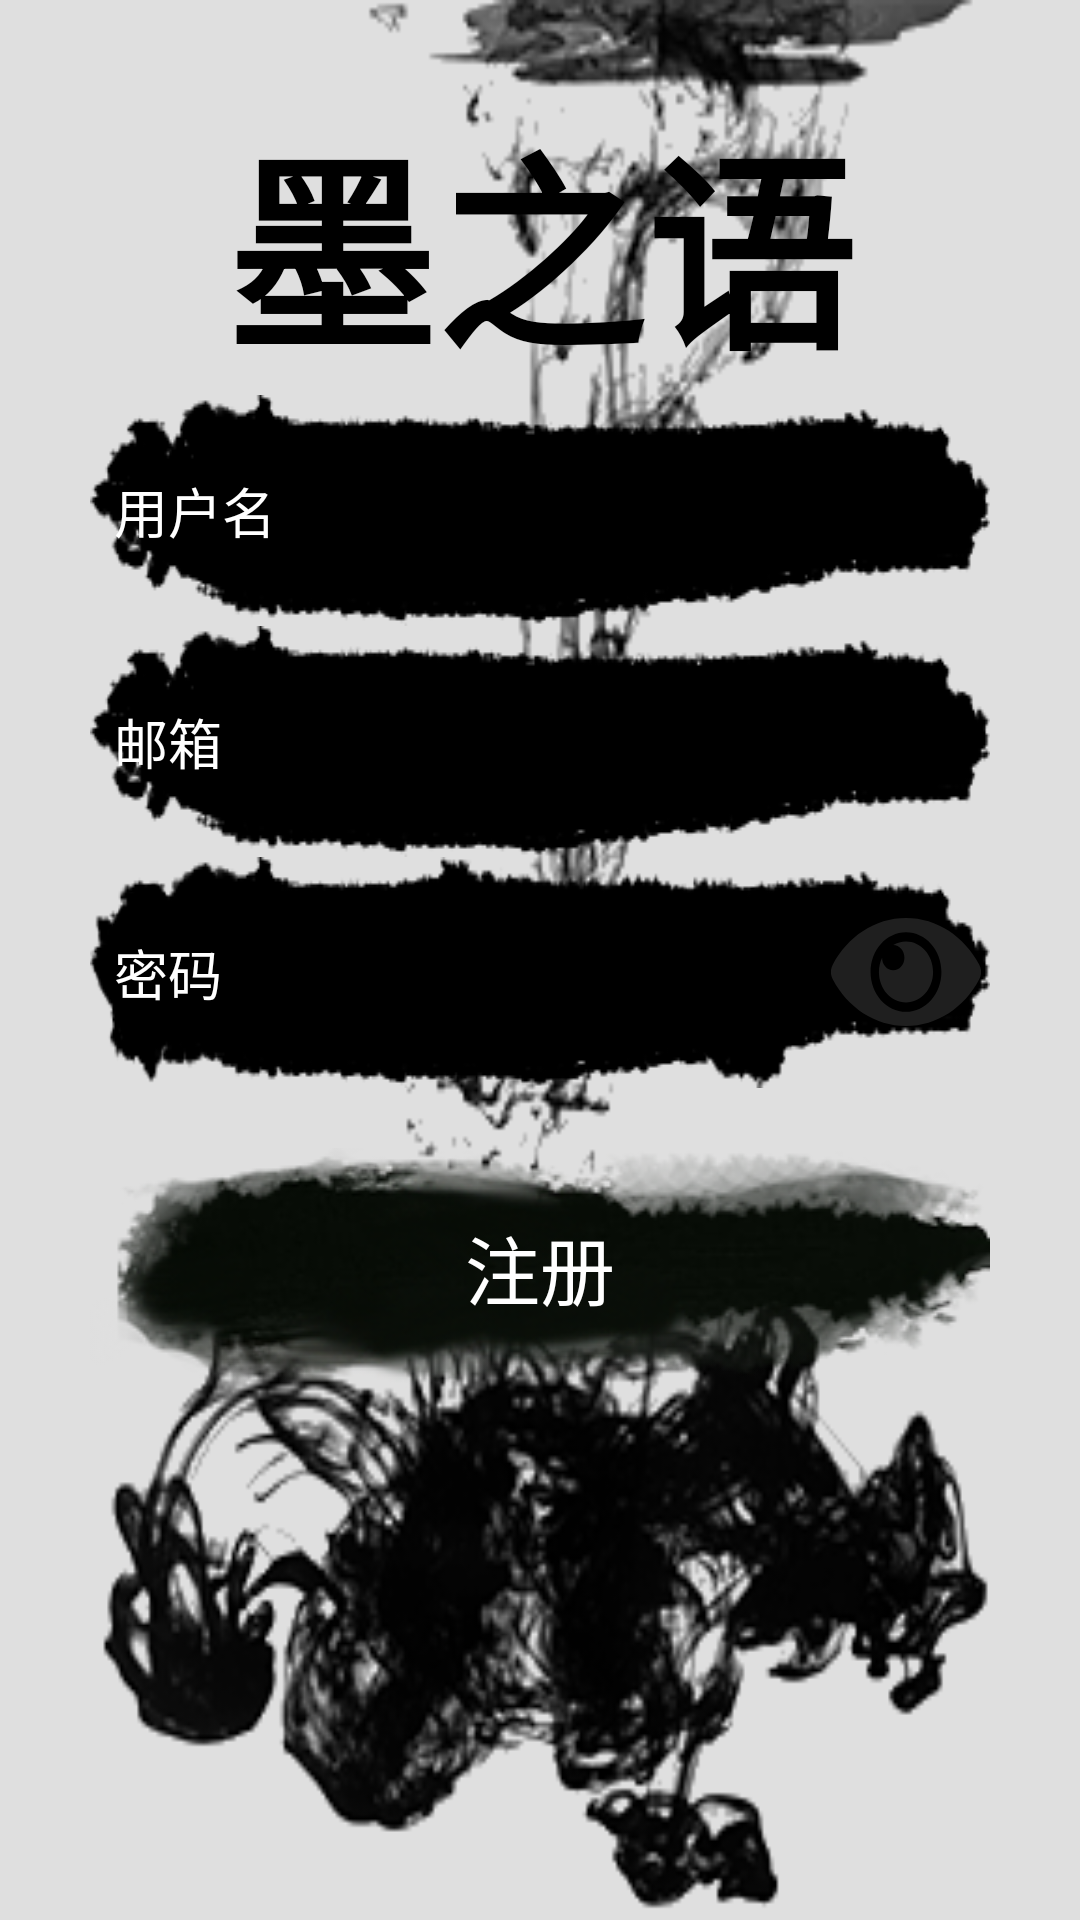

Icons on this 1080 × 1920 Android screen, each with the point to tap as (x,y):
eye: (906,972)
